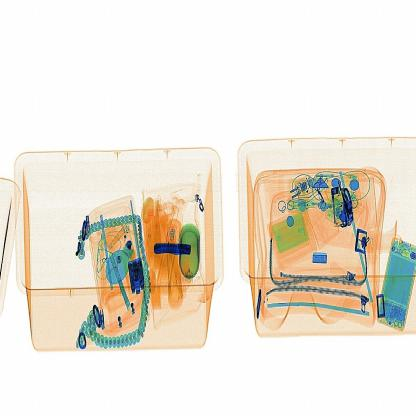knife: (152, 238, 194, 261)
